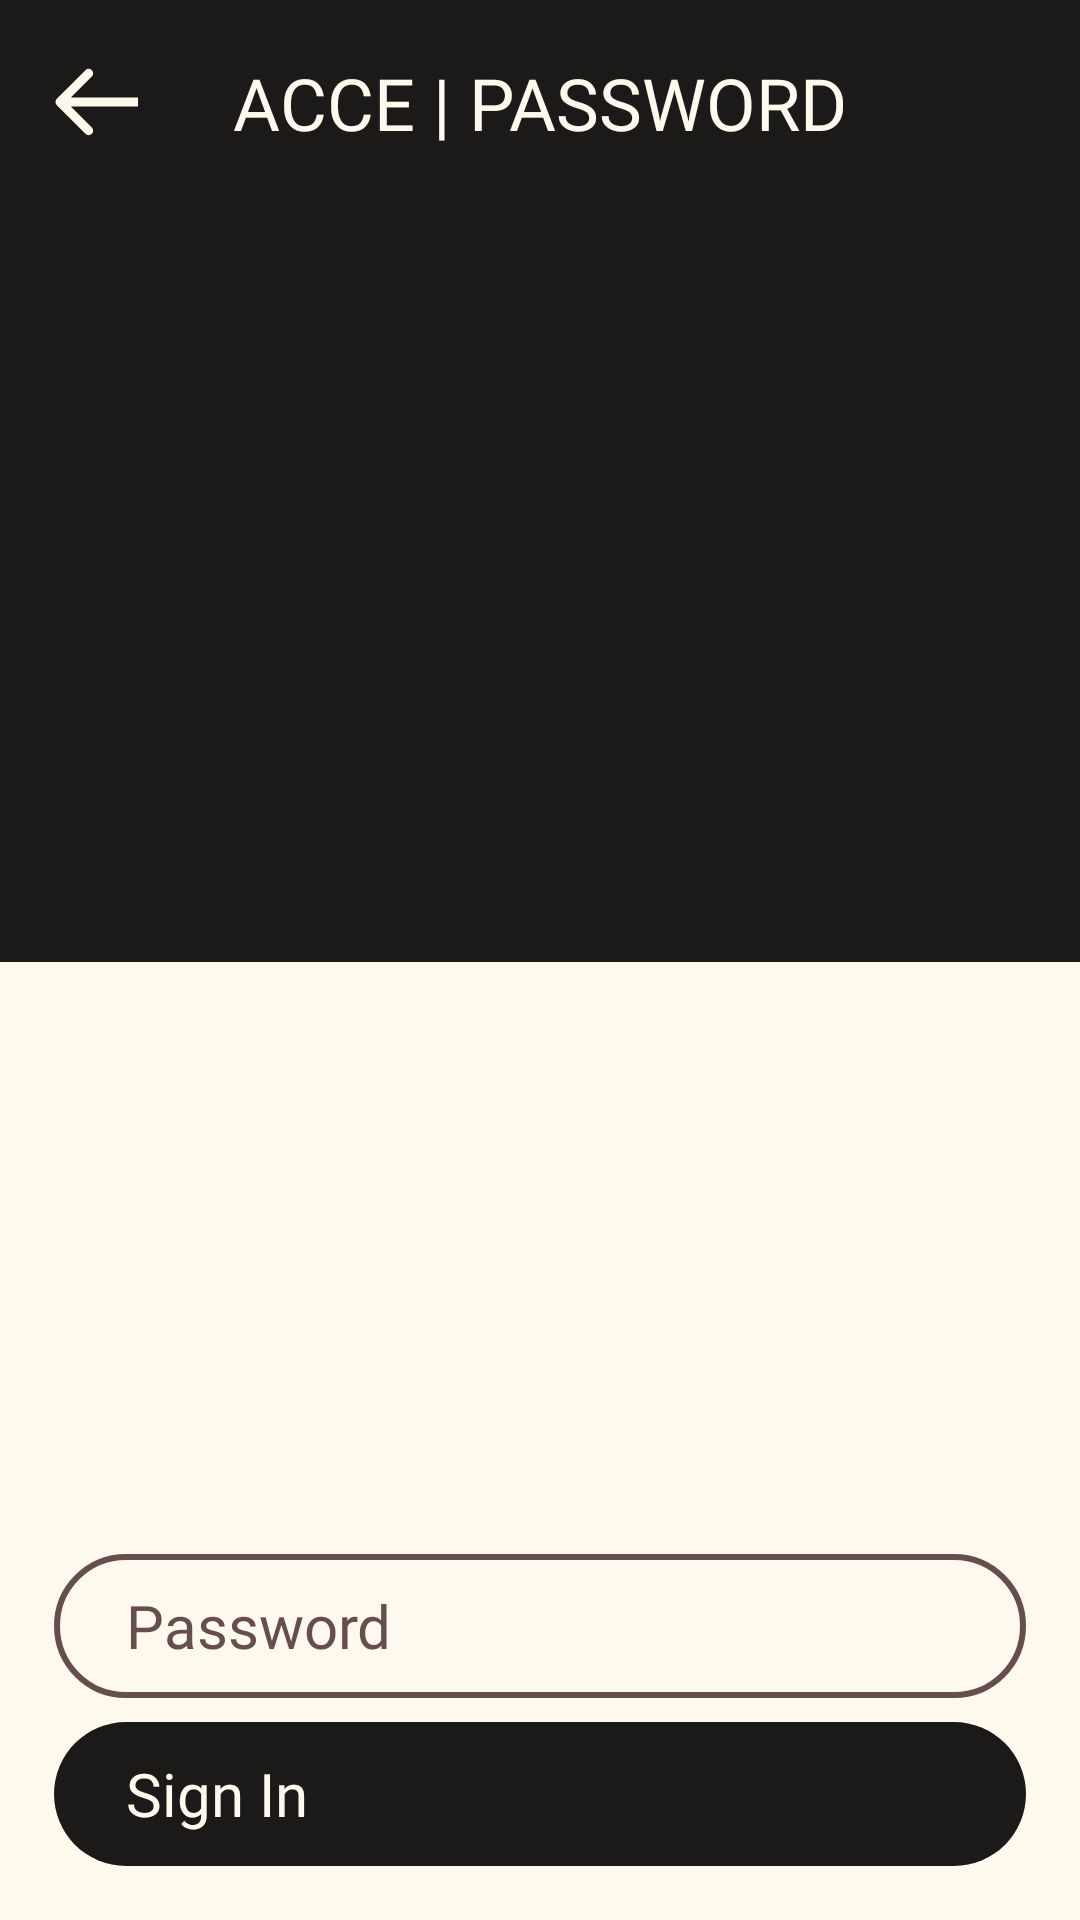

Icon bounding boxes for this 1080x1920 phone screenshot, format (left=x1, top=y1, right=x2, bottom=y2):
back: (left=55, top=68, right=138, bottom=136)
